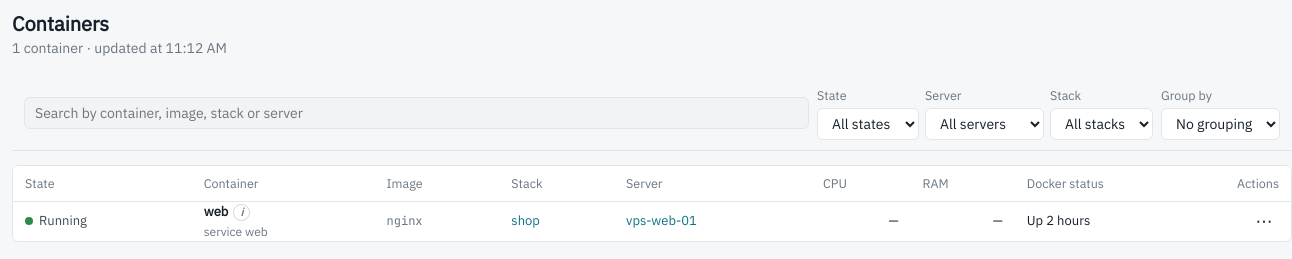
Scenario: Containers › does not offer control actions to a viewer without container.control
Check: the text "web" is shown, box [204,203,228,222]
Click the button named "Actions for web".
click(1264, 221)  # box [1249,205,1279,237]
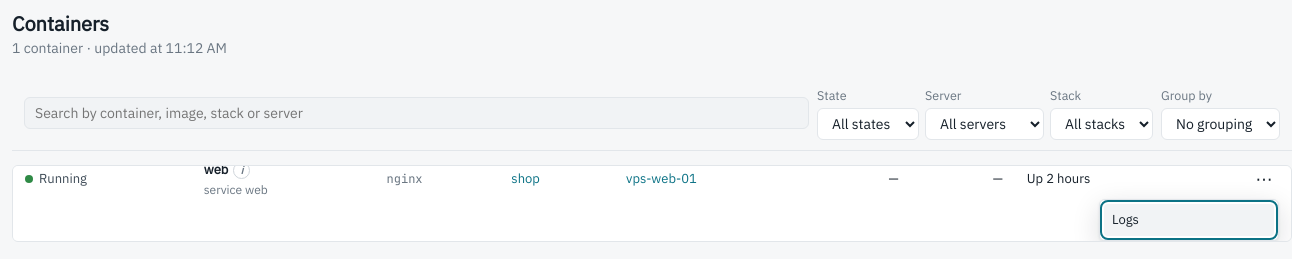
Check: the menu item "Logs" is shown, box [1104,204,1274,236]
